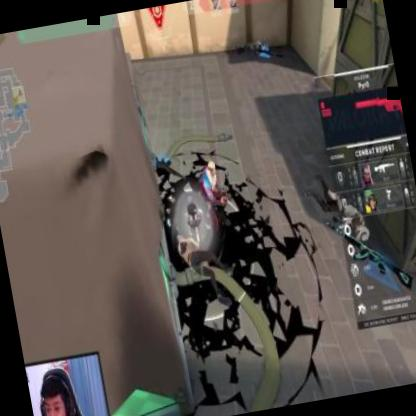enemy: (192, 154, 233, 235)
enemy_head: (206, 160, 216, 175)
